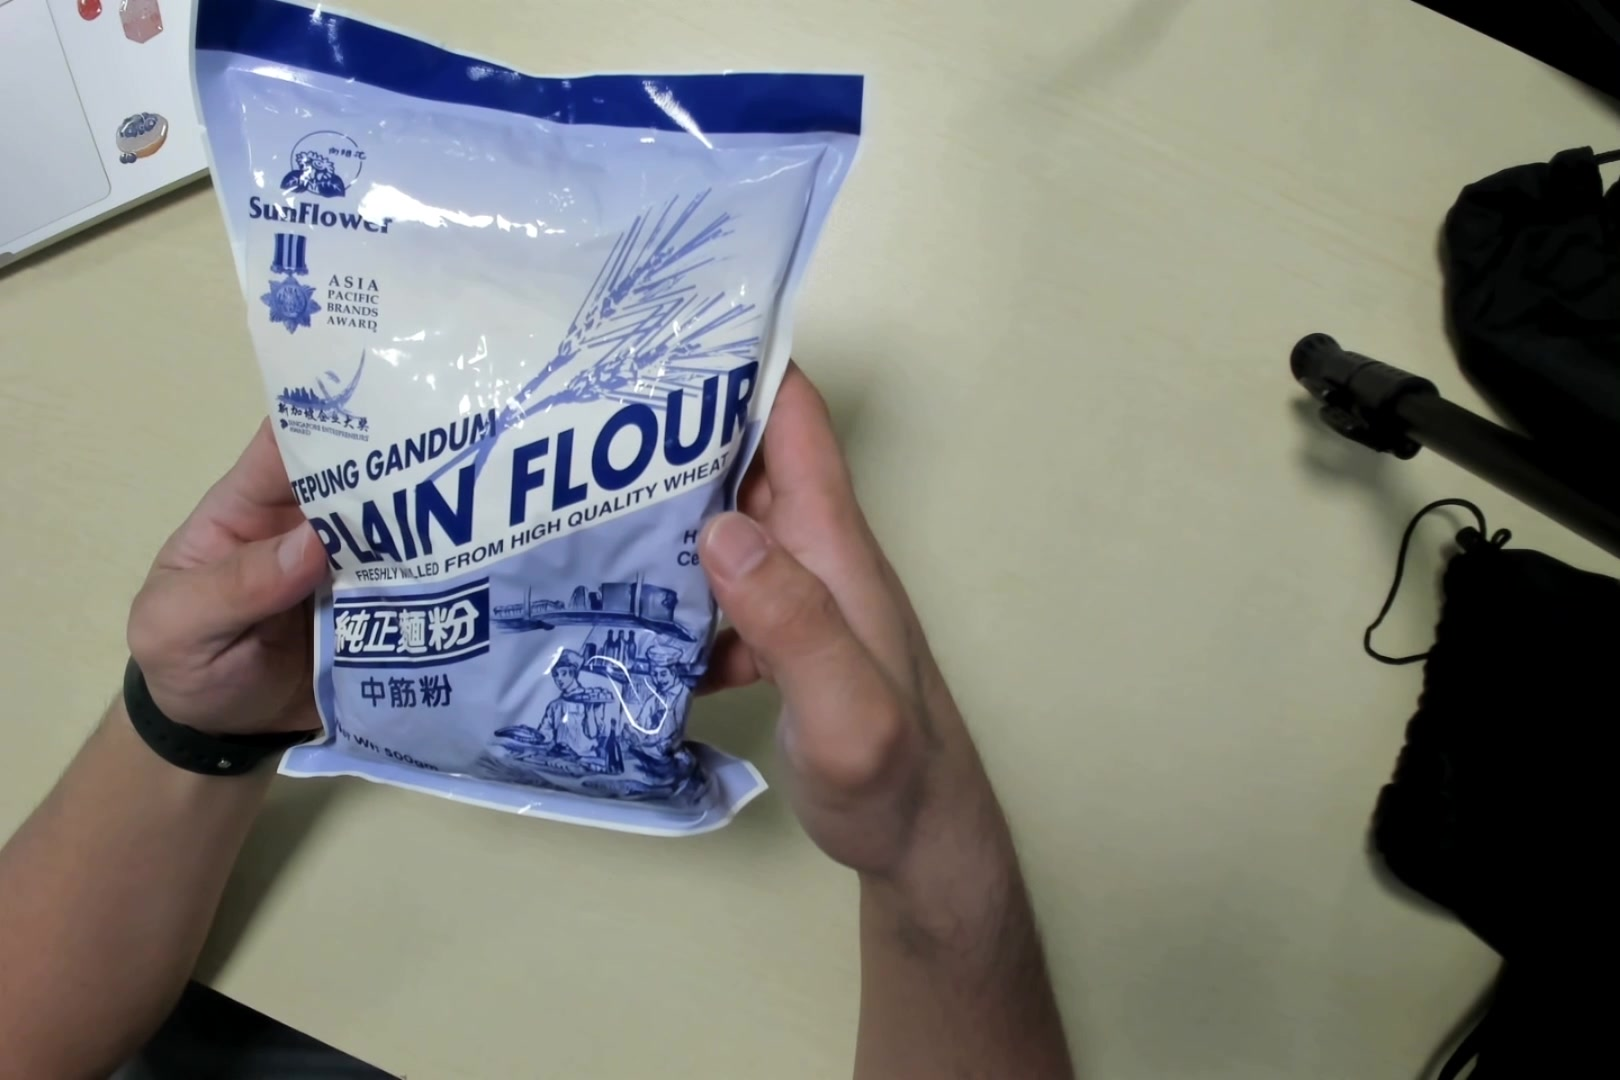Flour_500-599g_NonHalal_NonHealthy: (230, 14, 782, 823)
